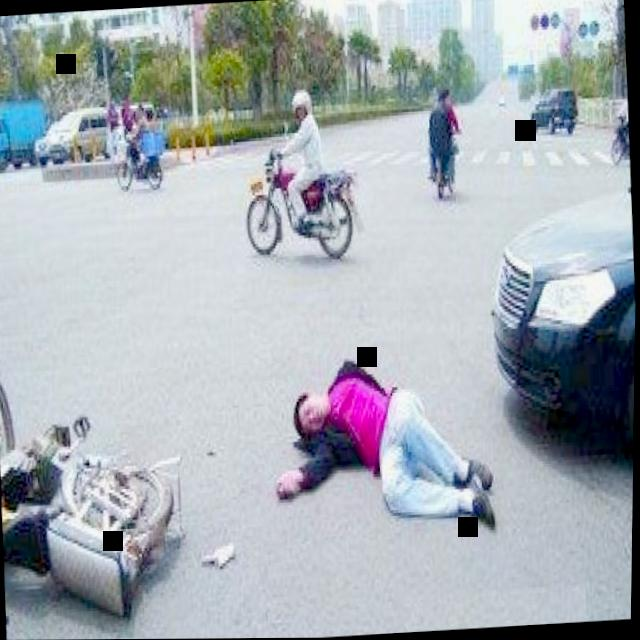Fall-Detected: (258, 328, 508, 544)
